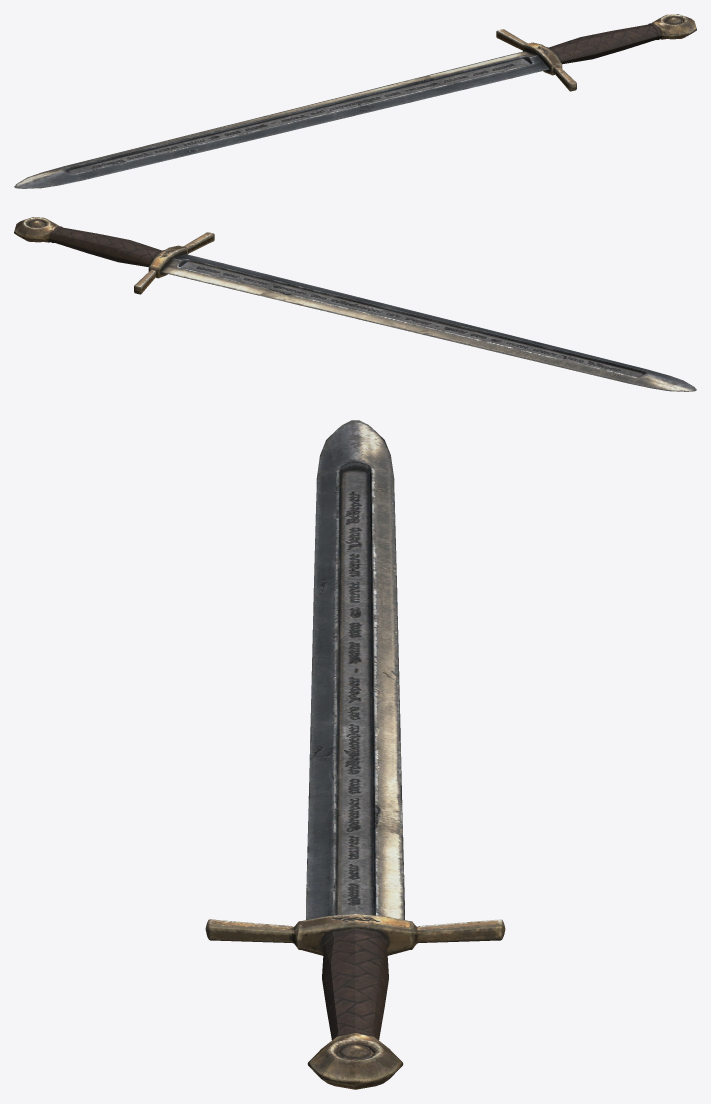
The model's file is miecz20.glb.
3 renders of one model, top to bottom at view 1: azimuth 30°, elevation 25°; view 2: azimuth 150°, elevation 25°; view 3: azimuth 270°, elevation 25°, orthographic. The views are drawn at different scales.
Visible parts, largest first — view 1: zengin; view 2: zengin; view 3: zengin.
Part boxes in pixels (x1,y1,x2,y2): zengin: [14, 14, 696, 188]; zengin: [14, 217, 696, 391]; zengin: [205, 420, 505, 1089].
Size of the model in its own units: 1.03 by 0.0258 by 0.1958.
Materials: 1 (1 with a texture image).
